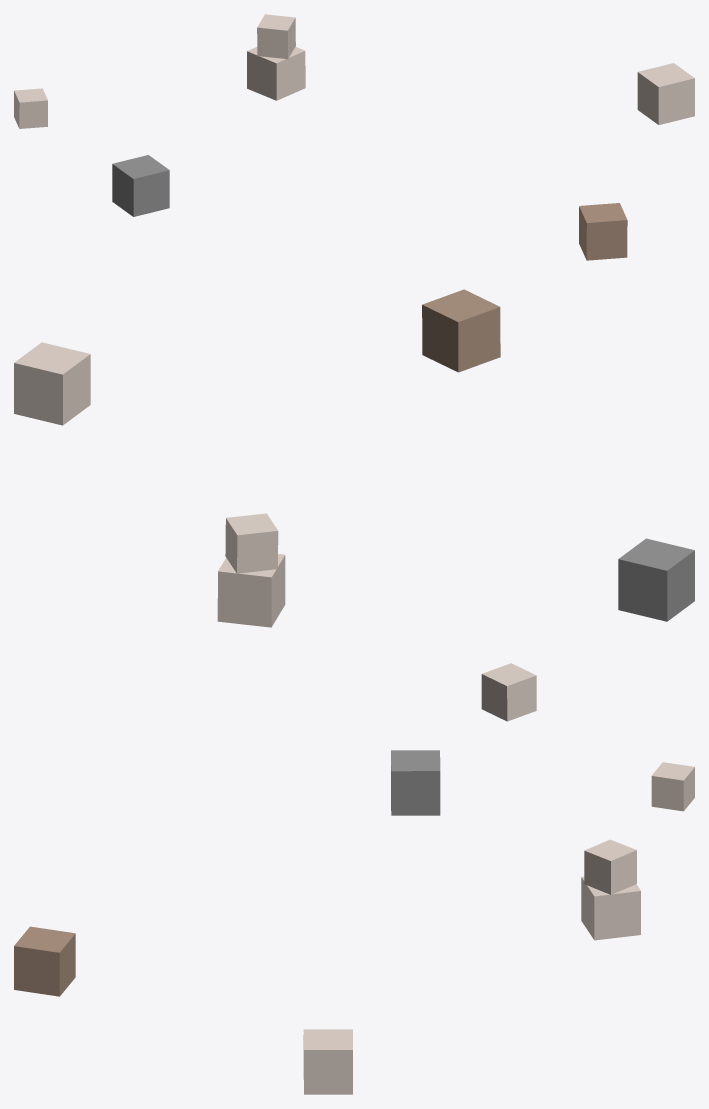
Rendered from Playground_figurine_cubes.fbx.
The picture shows the model from 3 angles, top to bottom: view 1: azimuth 30°, elevation 25°; view 2: azimuth 150°, elevation 25°; view 3: azimuth 270°, elevation 25°; orthographic projection. The views are drawn at different scales.
Visible parts, largest first — view 1: Playground_figurine_cubes; view 2: Playground_figurine_cubes; view 3: Playground_figurine_cubes.
Part boxes in pixels (left/top/right/bottom): Playground_figurine_cubes: left=14, top=14, right=694, bottom=260; Playground_figurine_cubes: left=14, top=289, right=694, bottom=721; Playground_figurine_cubes: left=14, top=750, right=694, bottom=1094.
Size of the model in its own units: 103 by 13.59 by 98.96.
